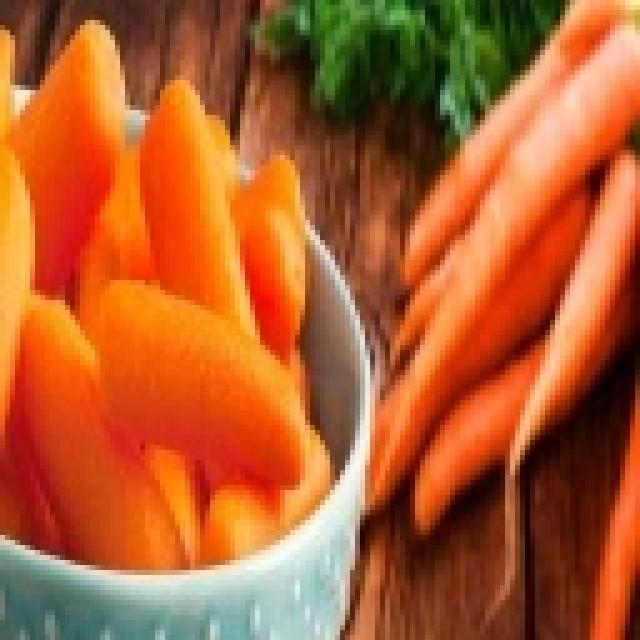carrot: (547, 251, 640, 459), (564, 28, 637, 214)
